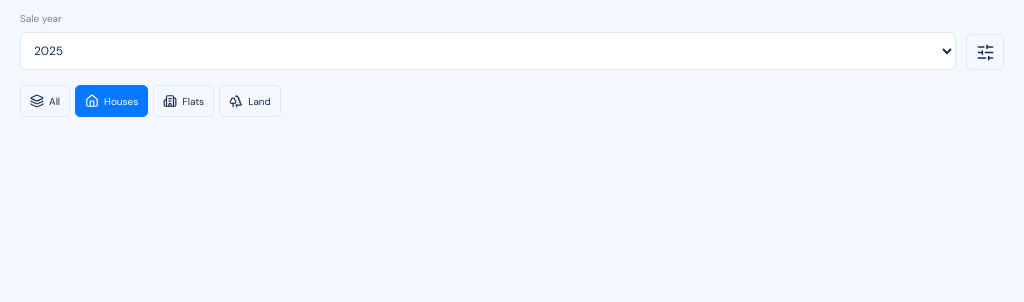
Scenario: filter controls › resets advanced filters while preserving the selected year
Click the button named "Show advanced filters" at (985, 52), box [966,34,1004,70]
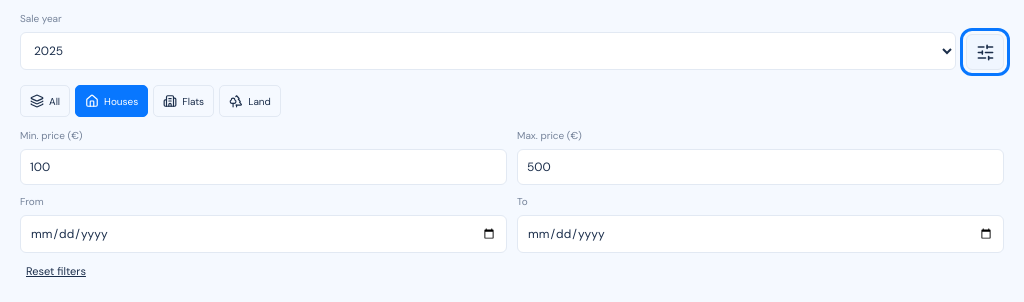
Click the button "Reset filters" at (56, 271), box [20,263,1004,279]
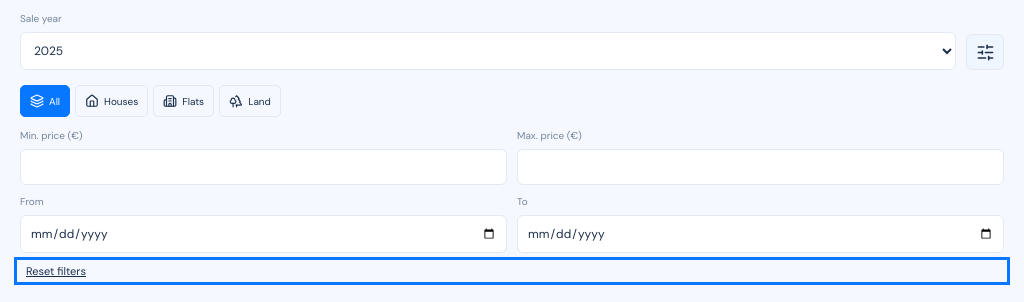
Expected: the dropdown labelled "Sale year" shows "2025", [20,32,956,70]
Expected: the number field labelled "Min. price (€)" is empty, [20,149,507,185]
Expected: the number field labelled "Max. price (€)" is empty, [517,149,1004,185]
